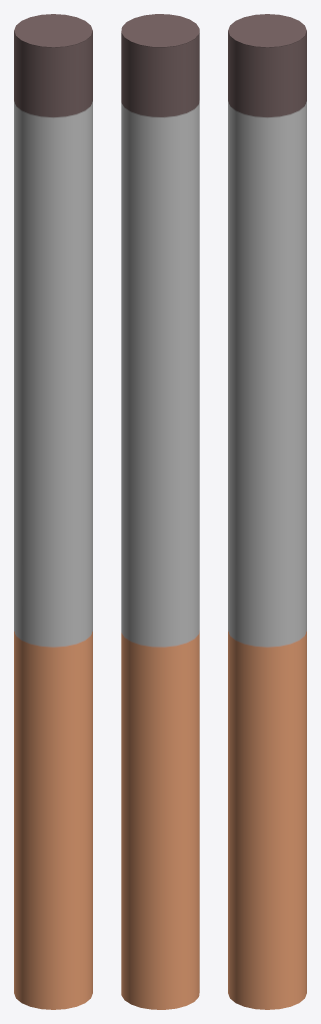
File: Mock_Cigarette.fbx
The picture shows the model from 3 angles, left to right: view 1: azimuth 90°, elevation 25°; view 2: azimuth 150°, elevation 25°; view 3: azimuth 270°, elevation 25°; orthographic projection.
Parts seen in each view (by area): view 1: pCylinder1; view 2: pCylinder1; view 3: pCylinder1.
Part boxes in pixels (x1=…): pCylinder1: x1=14, y1=14, x2=92, y2=1009; pCylinder1: x1=121, y1=14, x2=199, y2=1009; pCylinder1: x1=228, y1=14, x2=306, y2=1009.
Bounding box in the file's own units: 2 × 26.96 × 2.
